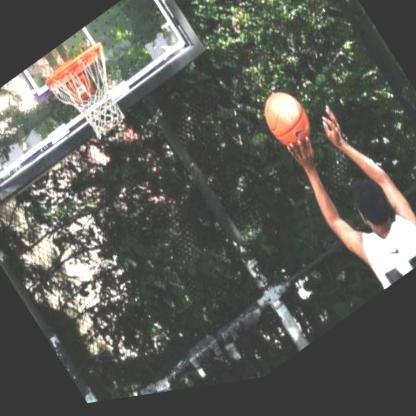basketball: (256, 88, 317, 165)
rim: (44, 39, 141, 154)
